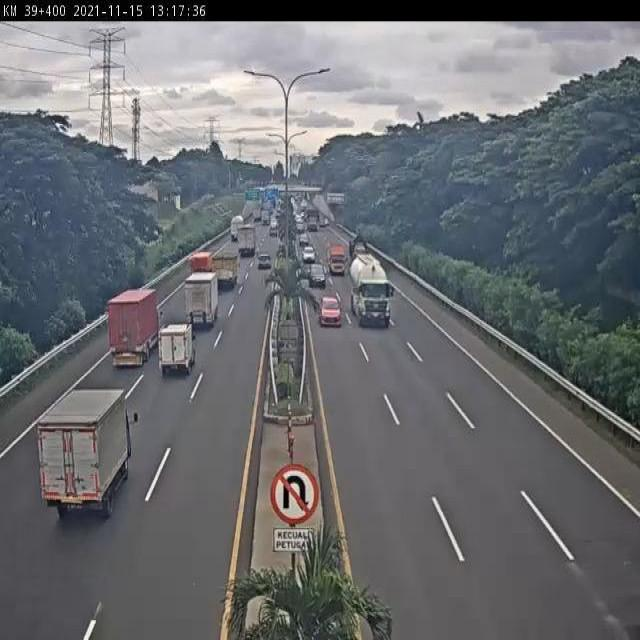car: (318, 294, 345, 326)
truck-l-: (348, 253, 397, 328)
truck-m-: (40, 387, 138, 524), (106, 288, 164, 365), (183, 271, 219, 329), (211, 252, 241, 288)
truck-s-: (158, 321, 196, 375)
